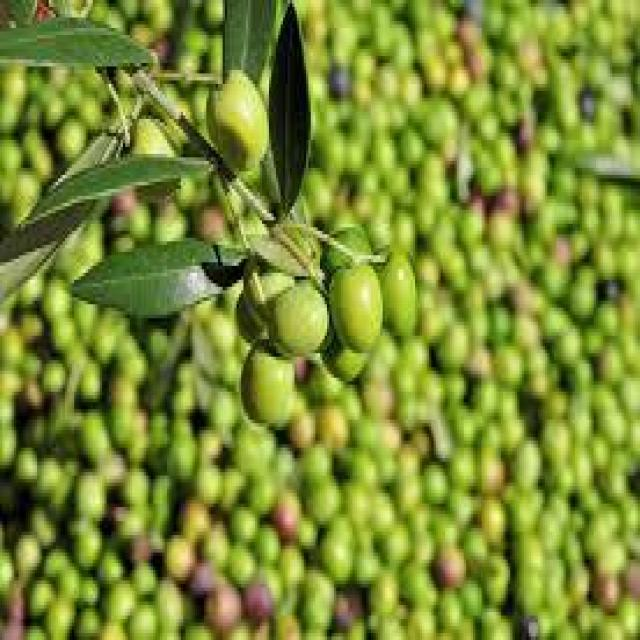Healthy: (209, 70, 270, 171), (241, 340, 296, 428), (333, 260, 384, 350), (272, 280, 330, 358)
